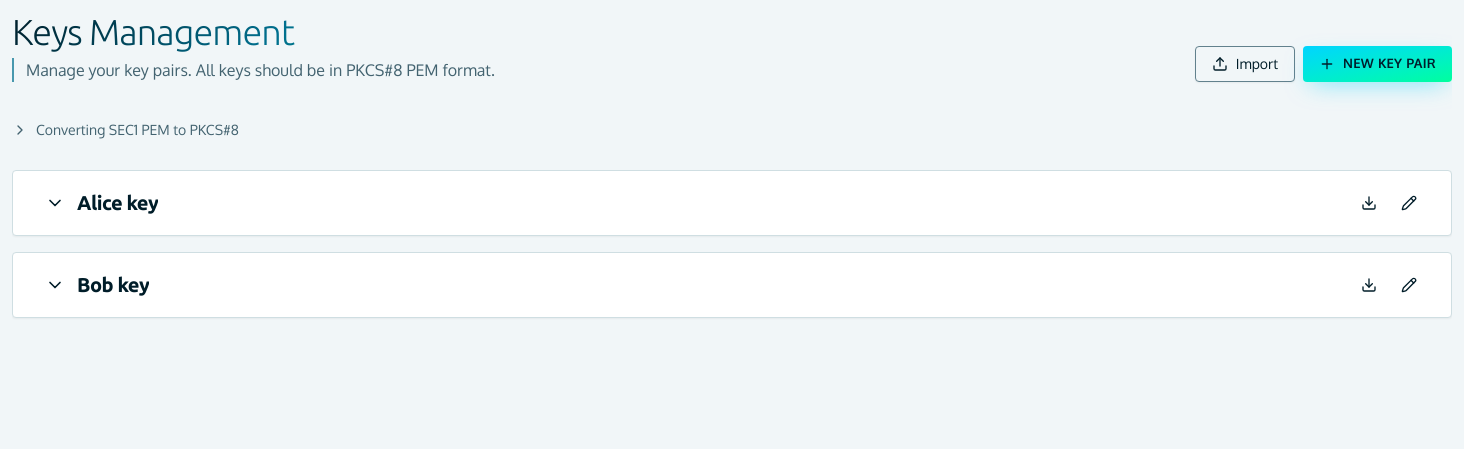
Scenario: Keys page › SEC1 help › toggles the SEC1 → PKCS#8 conversion instructions
Expected: the text "openssl pkcs8 -topk8" is not shown
Click the button "Converting SEC1 PEM to PKCS#8" at (125, 130), box [12,114,239,146]
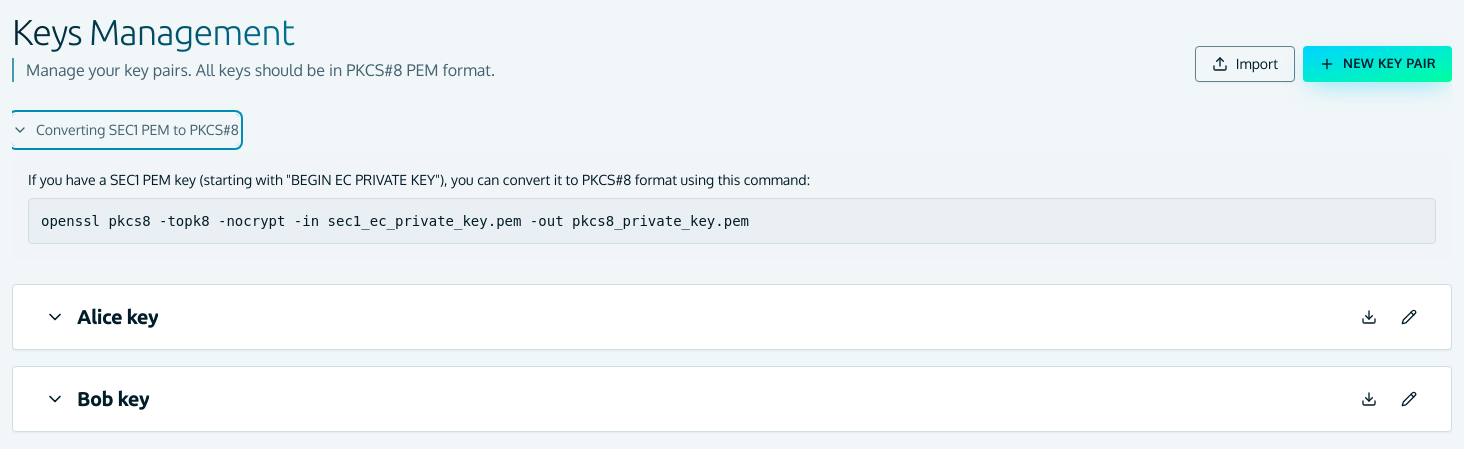
Expected: the text "openssl pkcs8 -topk8 -nocrypt" is shown, [41,213,749,229]
Click the button "Converting SEC1 PEM to PKCS#8" at (125, 130), box [12,114,239,146]
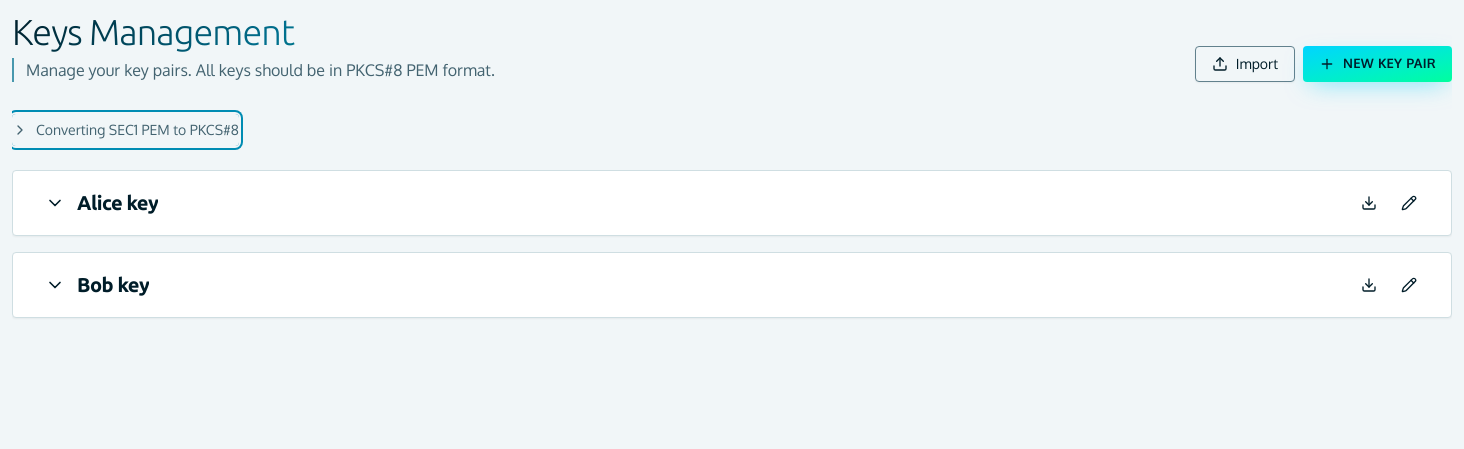
Expected: the text "openssl pkcs8 -topk8" is gone
